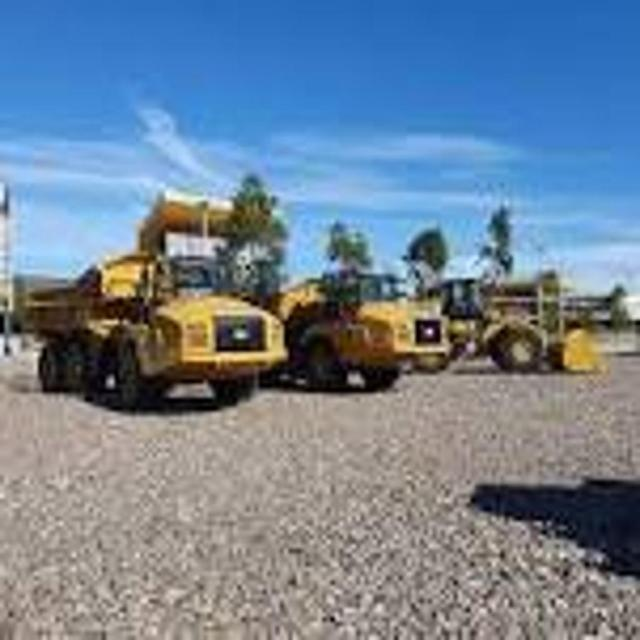dump_truck: (18, 234, 288, 431), (276, 252, 431, 411)
